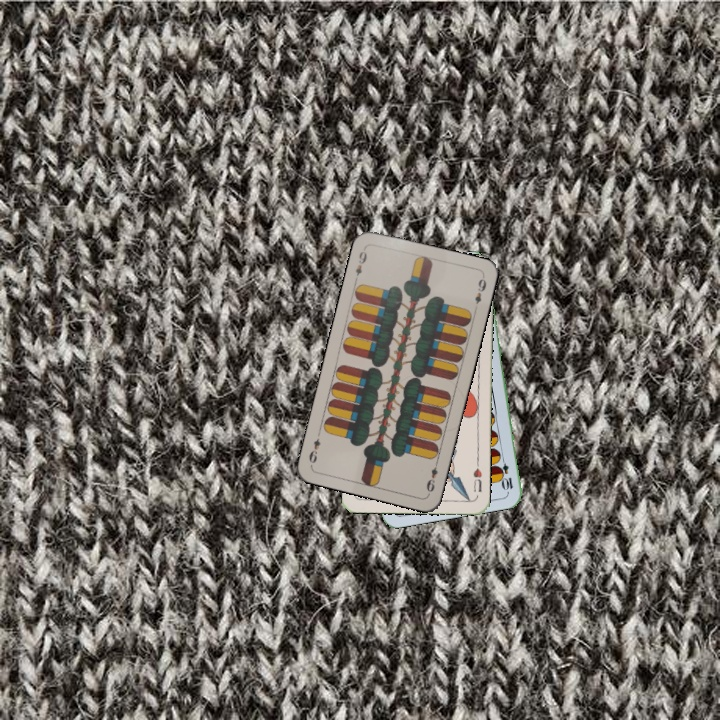E10: (496, 452, 515, 493)
E9: (422, 456, 441, 496), (351, 244, 369, 284)
HU: (469, 458, 484, 495)
